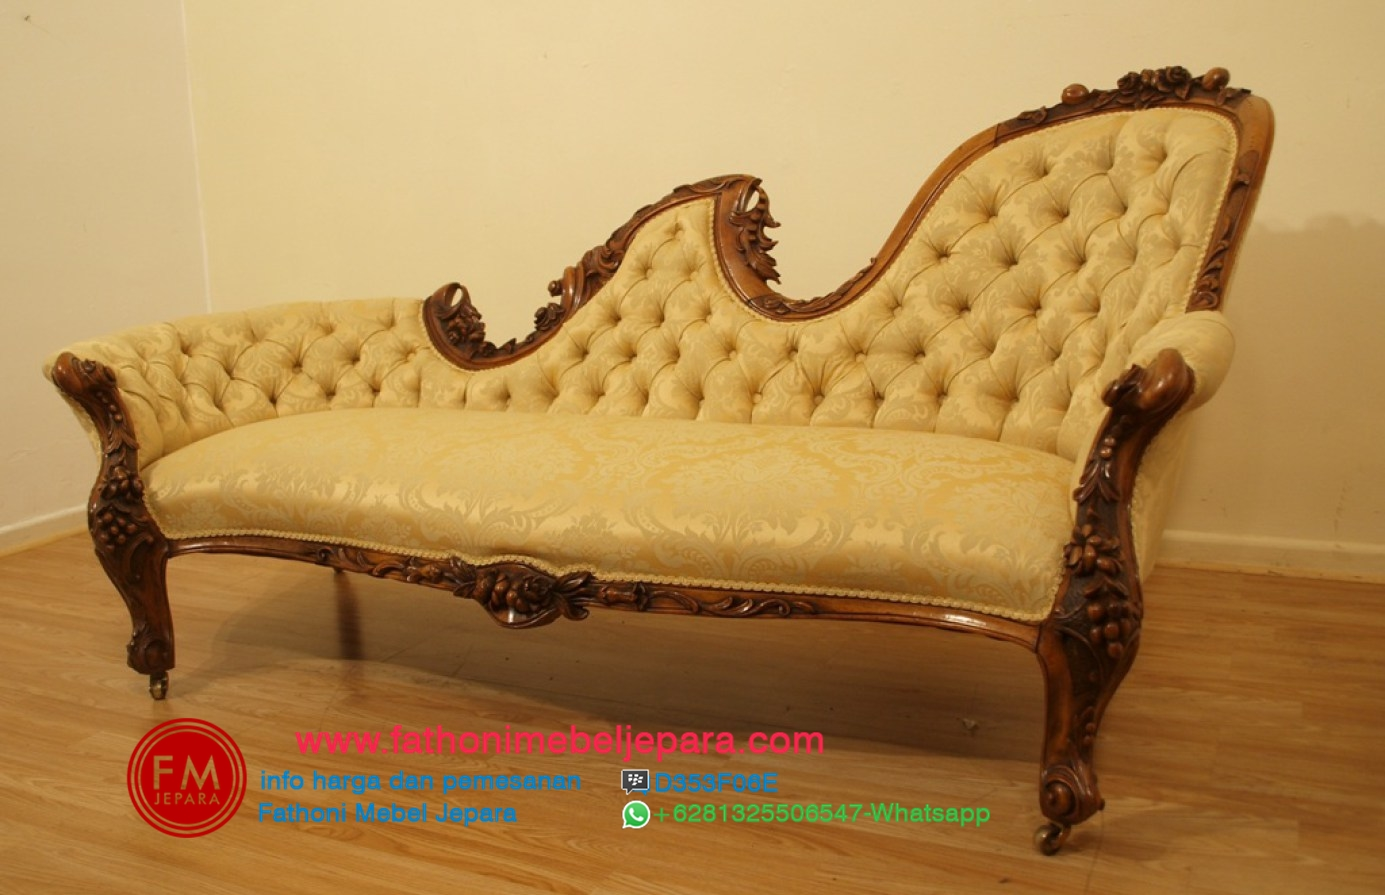Carving Chair: (55, 65, 1309, 850)
